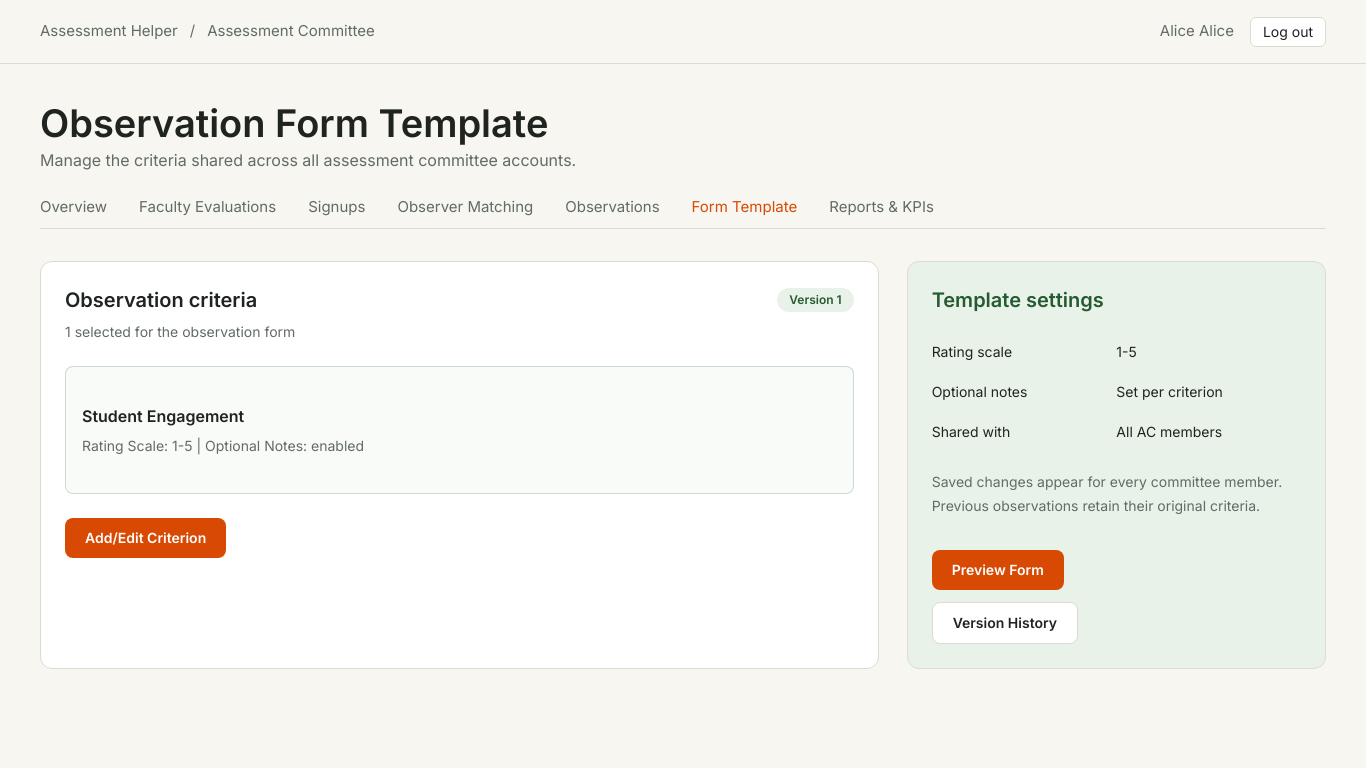
cancel discards additions and deletes without writing to the server
Click the button "Add/Edit Criterion" at (146, 538), box [65,518,226,558]
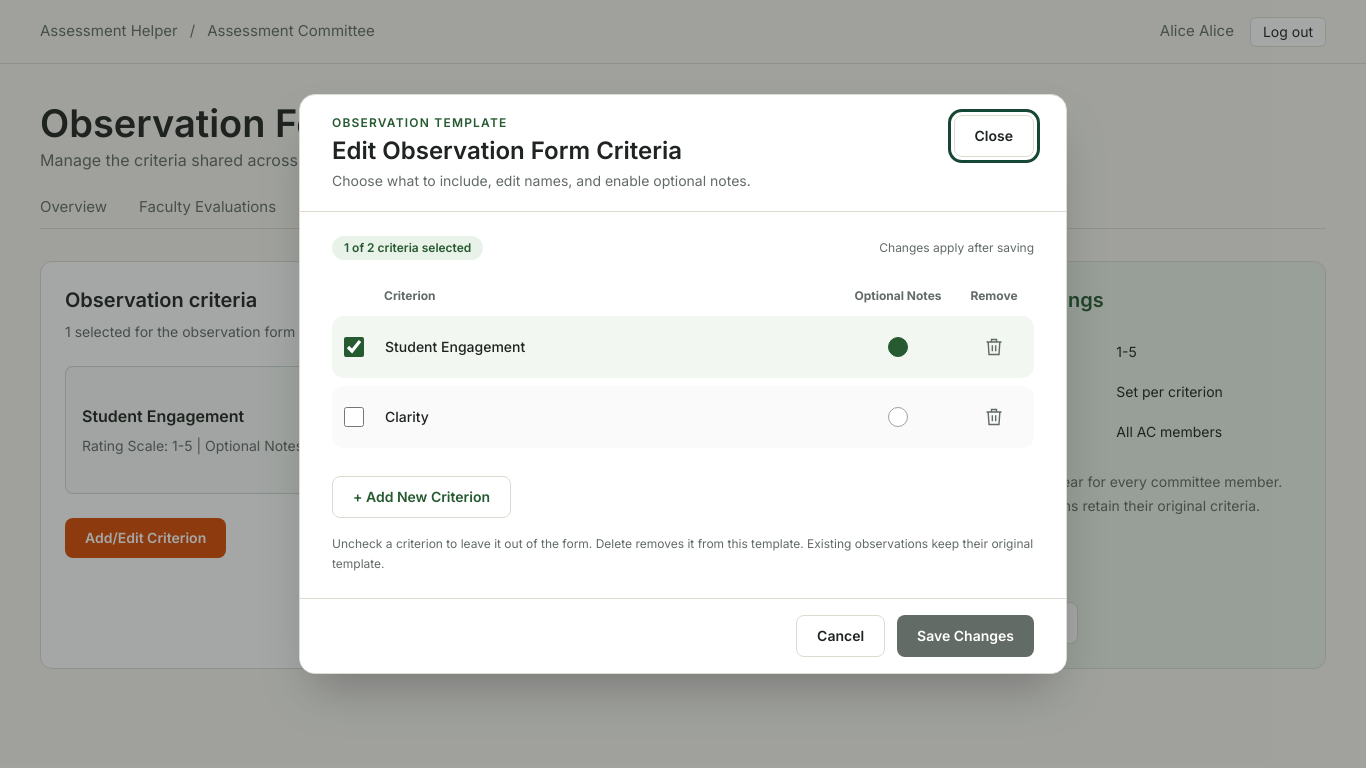
Click the button named "Delete criterion 1" at (994, 347), box [978,331,1010,363]
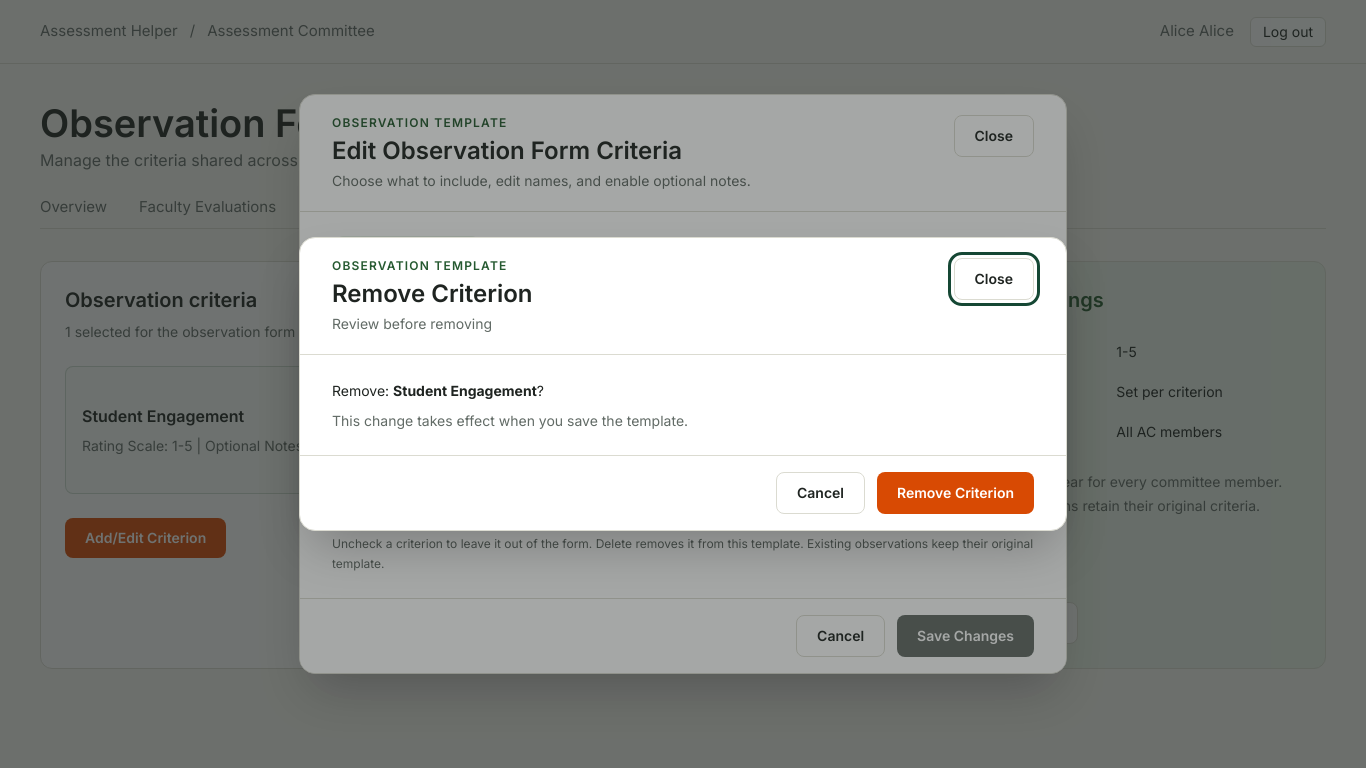
Click the button "Remove Criterion" at (956, 493), box [877,472,1034,514]
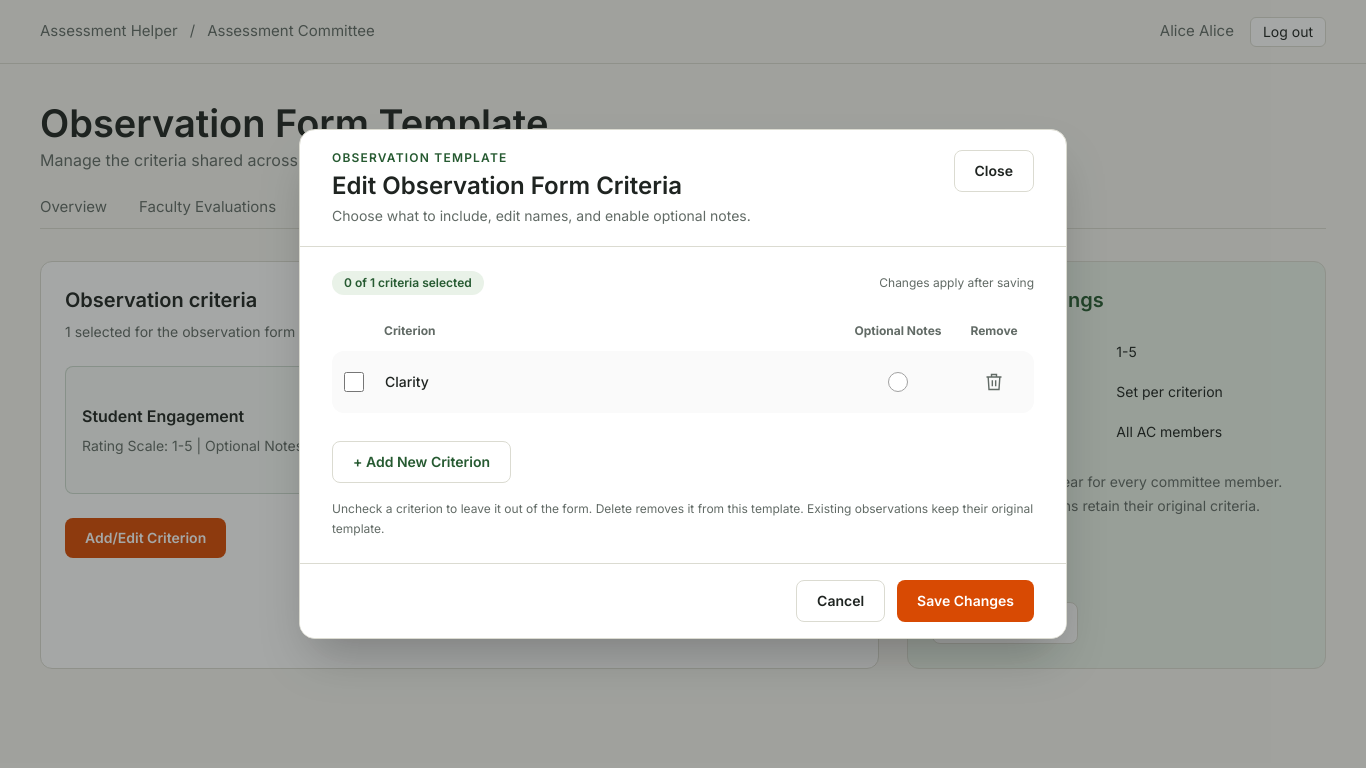
Click the button "Cancel" at (841, 601), box [796,580,885,622]
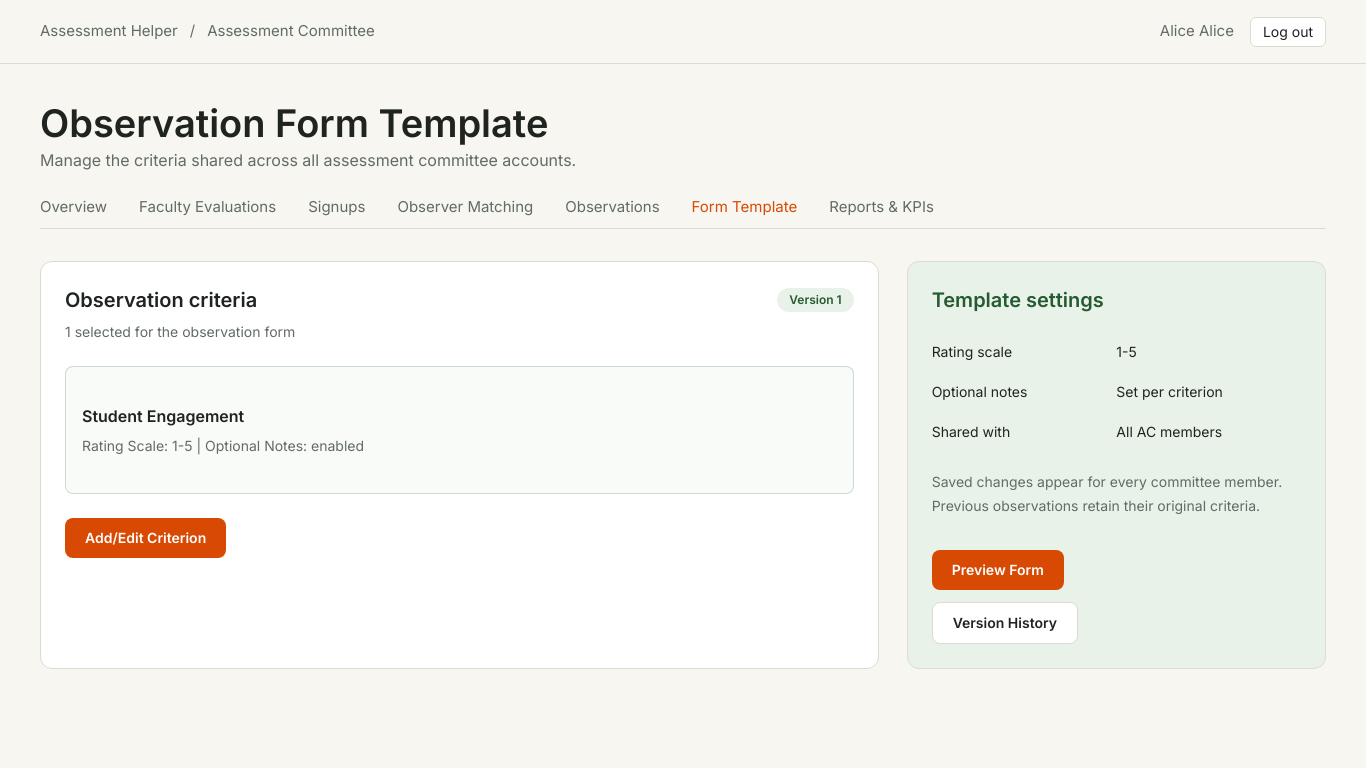
Check: the heading "Student Engagement" is shown, box [82,404,244,428]
Click the button "Add/Edit Criterion" at (146, 538), box [65,518,226,558]
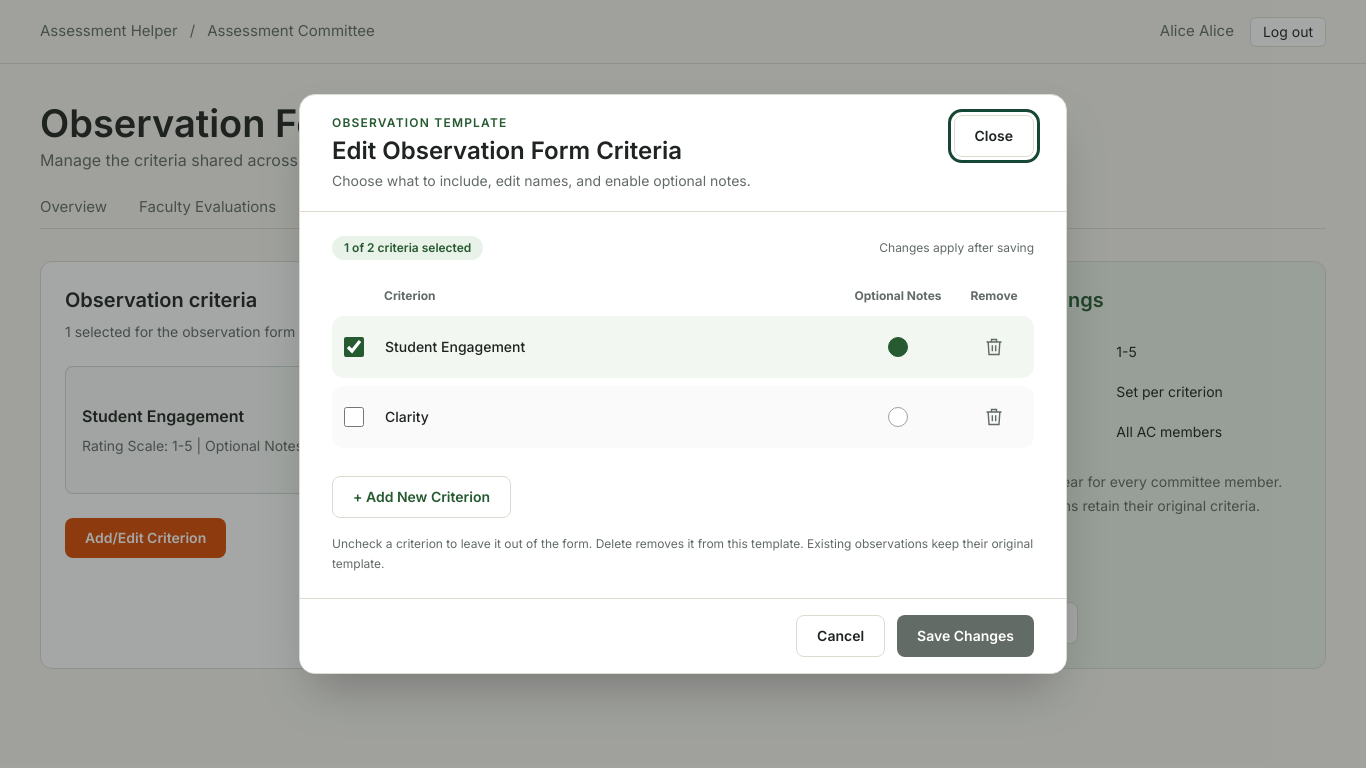
Check: the field named "Criterion 1 name" holds "Student Engagement", box [376,328,842,366]
